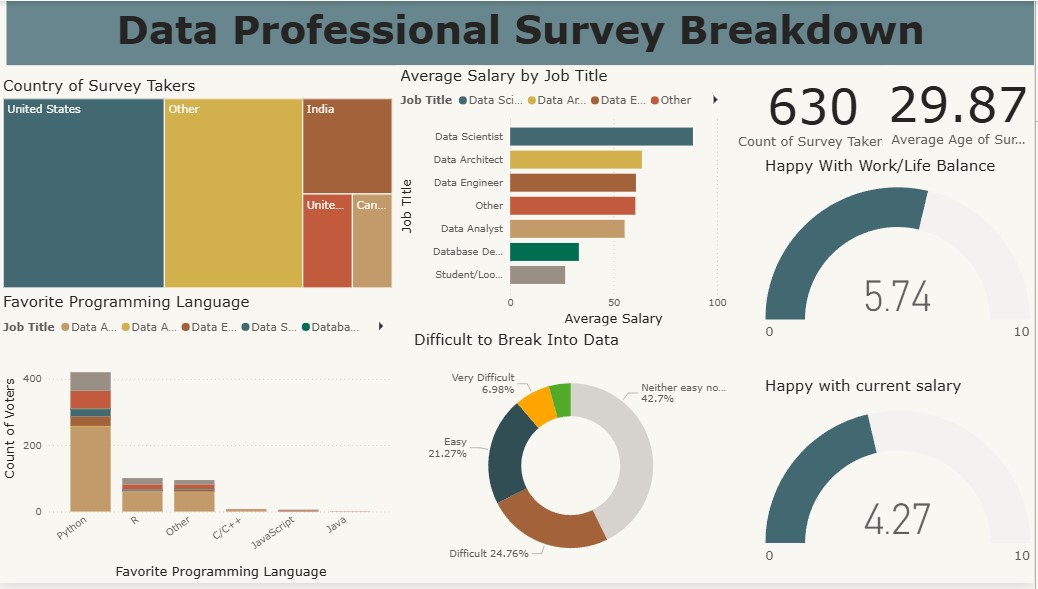

This screenshot's page, from the dashboard's own definition file:
{"tool":"powerbi","page":{"name":"Page 1","canvas":[1280,720],"ordinal":0},"visuals":[{"type":"textbox","box":[9.7,0,1271.1,79.3],"z":0},{"type":"card","fields":{"Values":["Count(Data Professional Survey.Unique ID)"]},"box":[904.8,79.7,204,111.3],"z":1000},{"type":"card","fields":{"Values":["Avg(Data Professional Survey.Q10 - Current Age)"]},"box":[1092.1,79.7,187.3,107.5],"z":2000},{"type":"barChart","title":"Average Salary by Job Title","fields":{"Category":["Data Professional Survey.Q1 - Which Title Best Fits your Current Role?.1"],"Y":["Avg(Data Professional Survey.Average Salary)"],"Series":["Data Professional Survey.Q1 - Which Title Best Fits your Current Role?.1"]},"box":[491.4,79.7,413.5,326.3],"z":3000},{"type":"columnChart","title":"Favorite Programming Language","fields":{"Category":["Data Professional Survey.Q5 - Favorite Programming Language.1"],"Y":["CountNonNull(Data Professional Survey.Unique ID)"],"Series":["Data Professional Survey.Q1 - Which Title Best Fits your Current Role?.1"]},"box":[0,359.7,491.4,359.7],"z":4000},{"type":"treemap","title":"Country of Survey Takers","fields":{"Group":["Data Professional Survey.Q11 - Which Country do you live in?.1"],"Values":["CountNonNull(Data Professional Survey.Q11 - Which Country do you live in?.1)"]},"box":[0,92.7,491.4,267],"z":5000},{"type":"gauge","title":"Happy With Work/Life Balance","fields":{"Y":["Avg(Data Professional Survey.Q6 - How Happy are you in your Current Position with the following? (Work/Life Balance))"],"MinValue":["Min(Data Professional Survey.Q6 - How Happy are you in your Current Position with the following? (Work/Life Balance))1"],"MaxValue":["Max(Data Professional Survey.Q6 - How Happy are you in your Current Position with the following? (Work/Life Balance))2"]},"box":[941.9,191,337.5,248.5],"z":5001},{"type":"gauge","title":"Happy with current salary","fields":{"Y":["Avg(Data Professional Survey.Q6 - How Happy are you in your Current Position with the following? (Salary))"],"MinValue":["Min(Data Professional Survey.Q6 - How Happy are you in your Current Position with the following? (Salary))1"],"MaxValue":["Max(Data Professional Survey.Q6 - How Happy are you in your Current Position with the following? (Salary))2"]},"box":[941.9,463.5,337.5,255.9],"z":5002},{"type":"donutChart","title":"Difficult to Break Into Data","fields":{"Category":["Data Professional Survey.Q7 - How difficult was it for you to break into Data?"],"Y":["CountNonNull(Data Professional Survey.Q7 - How difficult was it for you to break into Data?)"]},"box":[508,406.1,396.8,313.4],"z":5003}]}

Visuals, with their boxes in screenshot pixels (x1, y1, x2, y2), scaled from the page's 1280x720 canvas onto the 1038x589 screenshot:
textbox: x1=8, y1=0, x2=1037, y2=65
card - Count(Data Professional Survey.Unique ID): x1=734, y1=65, x2=899, y2=156
card - Avg(Data Professional Survey.Q10 - Current Age): x1=886, y1=65, x2=1037, y2=153
"Average Salary by Job Title" barChart: x1=398, y1=65, x2=734, y2=332
"Favorite Programming Language" columnChart: x1=0, y1=294, x2=398, y2=588
"Country of Survey Takers" treemap: x1=0, y1=76, x2=398, y2=294
"Happy With Work/Life Balance" gauge: x1=764, y1=156, x2=1037, y2=360
"Happy with current salary" gauge: x1=764, y1=379, x2=1037, y2=588
"Difficult to Break Into Data" donutChart: x1=412, y1=332, x2=734, y2=588
